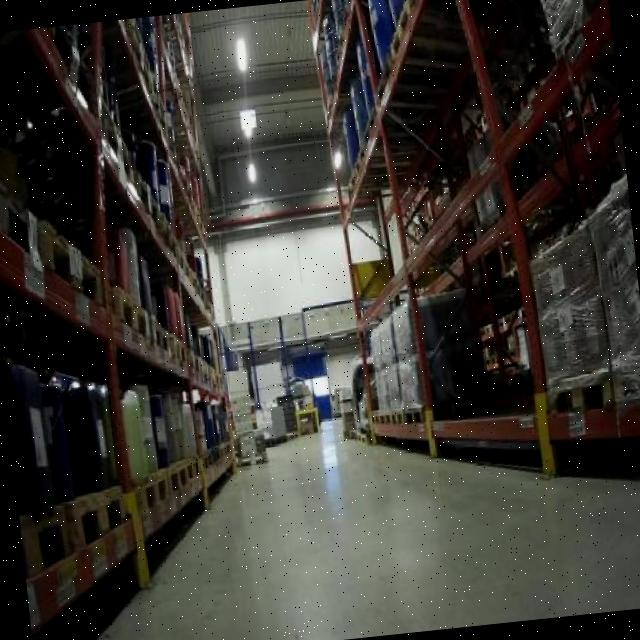pallet: (30, 205, 103, 313), (52, 480, 134, 572), (108, 277, 150, 343), (128, 464, 172, 516), (166, 452, 199, 495), (148, 313, 174, 363), (167, 329, 187, 370), (233, 449, 272, 469), (196, 446, 218, 474), (396, 407, 424, 427), (378, 410, 400, 429)
